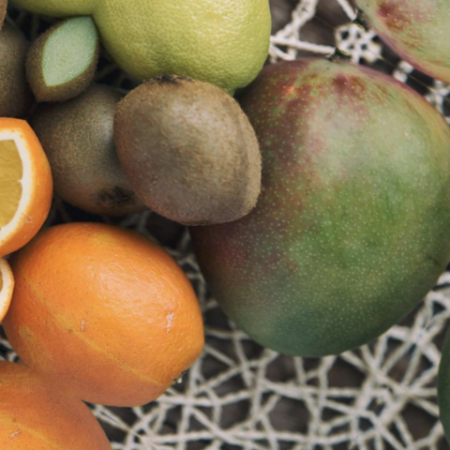kiwi: (120, 7, 450, 436), (79, 48, 303, 258)
orange: (0, 183, 246, 445)
